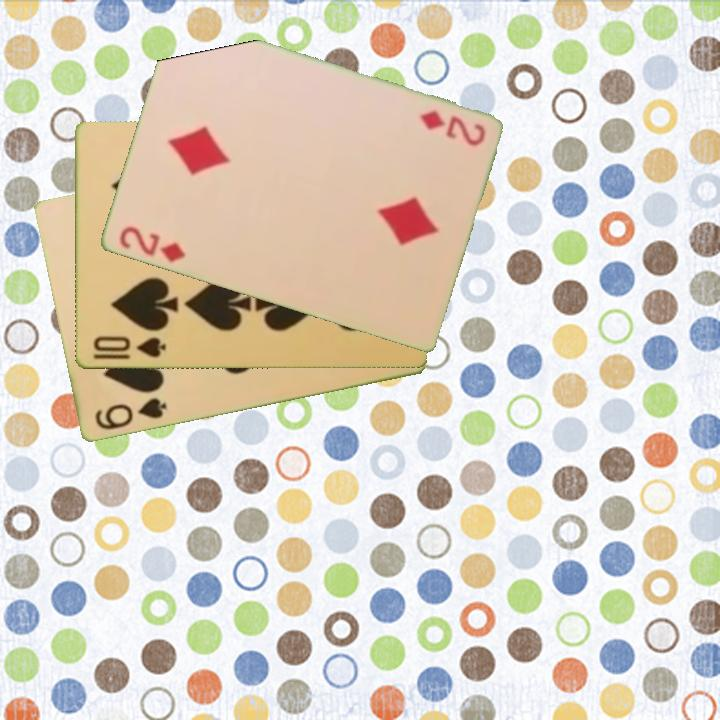10s: (89, 333, 169, 363)
2d: (115, 223, 188, 266), (415, 107, 488, 149)
6s: (91, 394, 170, 433)
